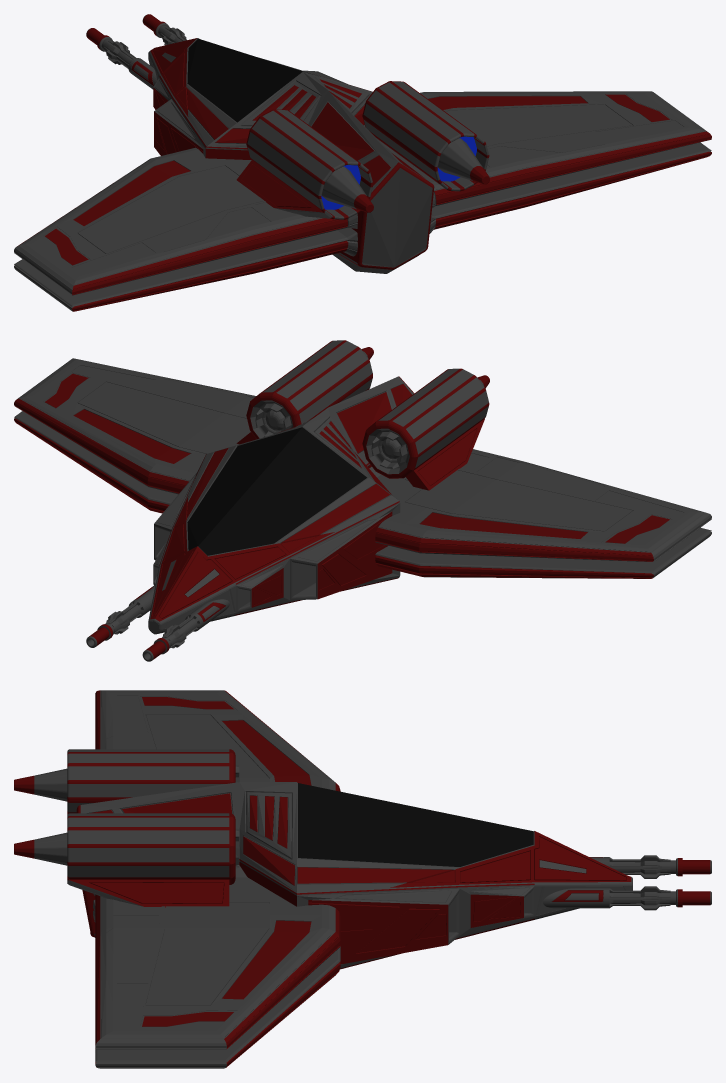
Rendered from SmallSpaceFighter.obj.
3 views of the same model, one above another, from view 1: azimuth 30°, elevation 25°; view 2: azimuth 150°, elevation 25°; view 3: azimuth 270°, elevation 25° (orthographic). The views are drawn at different scales.
Parts seen in each view (by area): view 1: Small_Space_Fighter_Cube; view 2: Small_Space_Fighter_Cube; view 3: Small_Space_Fighter_Cube.
Boxes of the visible parts, x1,y1,x2,y2 form: Small_Space_Fighter_Cube: (14,14,711,311); Small_Space_Fighter_Cube: (14,340,711,661); Small_Space_Fighter_Cube: (14,690,711,1068).
Bounding box in the file's own units: 6.95 × 1.46 × 5.81.
